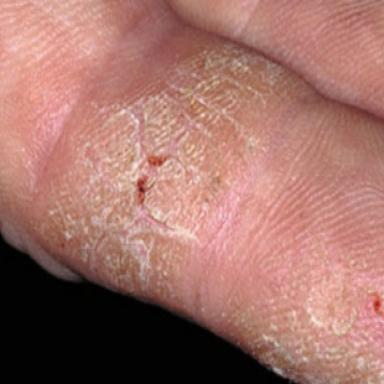eczema: (45, 37, 292, 298), (243, 239, 384, 381)
